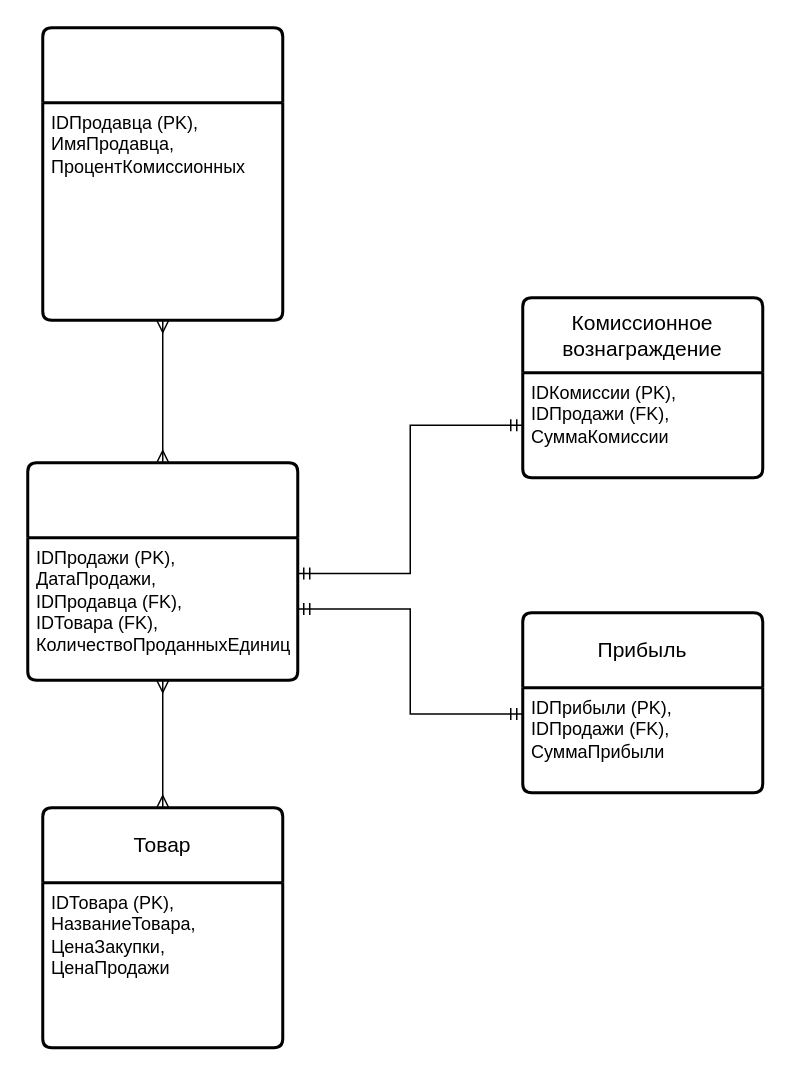
Image size: 789x1074. Some labels were removed from this diagram. Each missing label, with the box of its shape:
Продавец: (40, 26, 284, 321)
Продажа: (26, 460, 298, 681)
